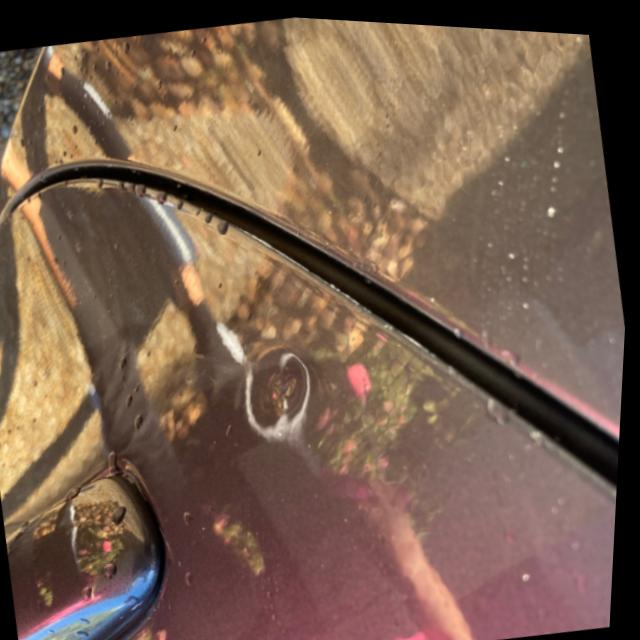Dent: (212, 323, 340, 463)
